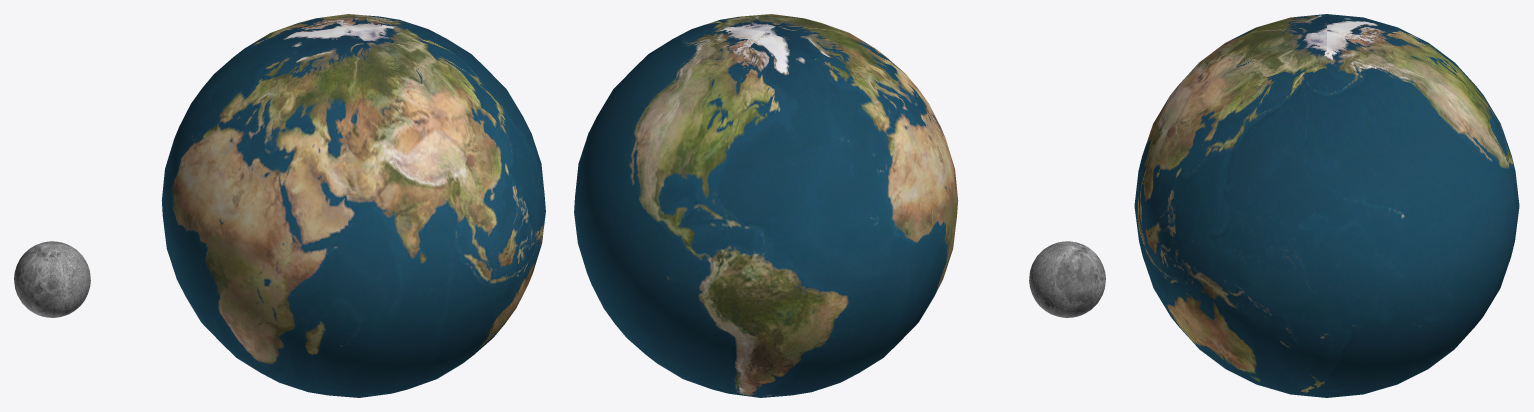
File: earth.glb
3 renders of one model, left to right at view 1: azimuth 30°, elevation 25°; view 2: azimuth 150°, elevation 25°; view 3: azimuth 270°, elevation 25°, orthographic.
Parts seen in each view (by area): view 1: earth_earthmap1k_0, moon; view 2: earth_earthmap1k_0, moon; view 3: earth_earthmap1k_0.
Part boxes in pixels (x1,y1,x2,y2): earth_earthmap1k_0: [161, 14, 545, 397]; moon: [14, 241, 90, 317]; earth_earthmap1k_0: [574, 14, 958, 397]; moon: [1029, 241, 1105, 317]; earth_earthmap1k_0: [1134, 14, 1519, 397].
Bounding box in the file's own units: 150 × 100 × 100.
2 materials, 2 textured.
